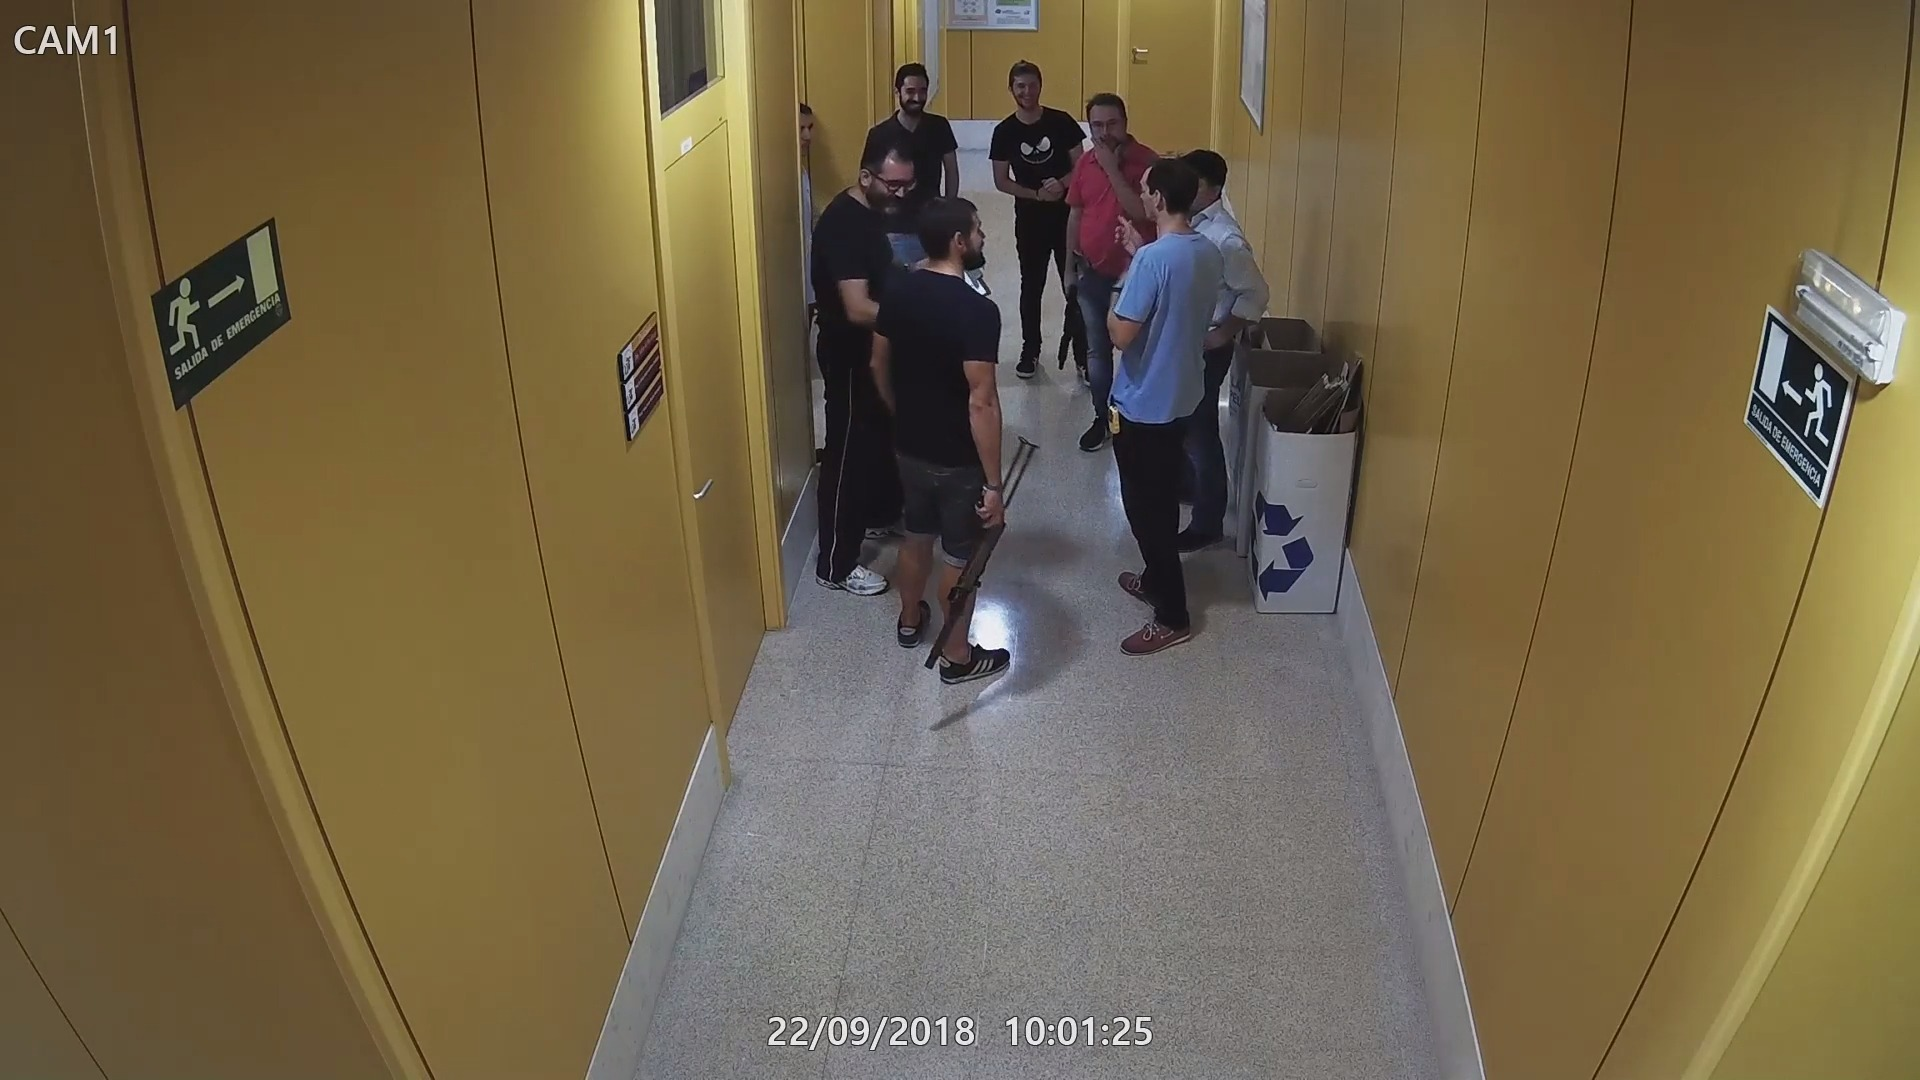Handgun: (1069, 244, 1095, 294)
Short_rifle: (920, 436, 1044, 667), (1055, 274, 1084, 371)
